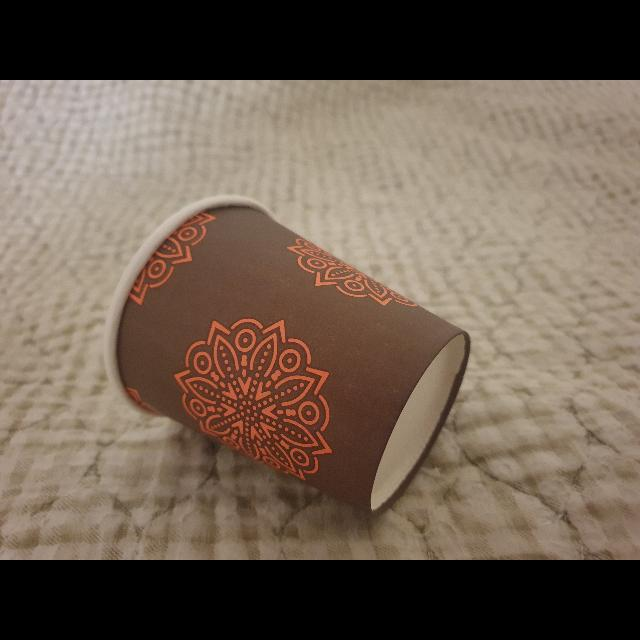trash: (96, 186, 482, 526)
